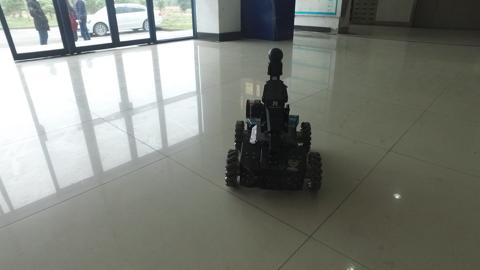car: (72, 1, 163, 36)
chariot: (224, 46, 322, 194)
